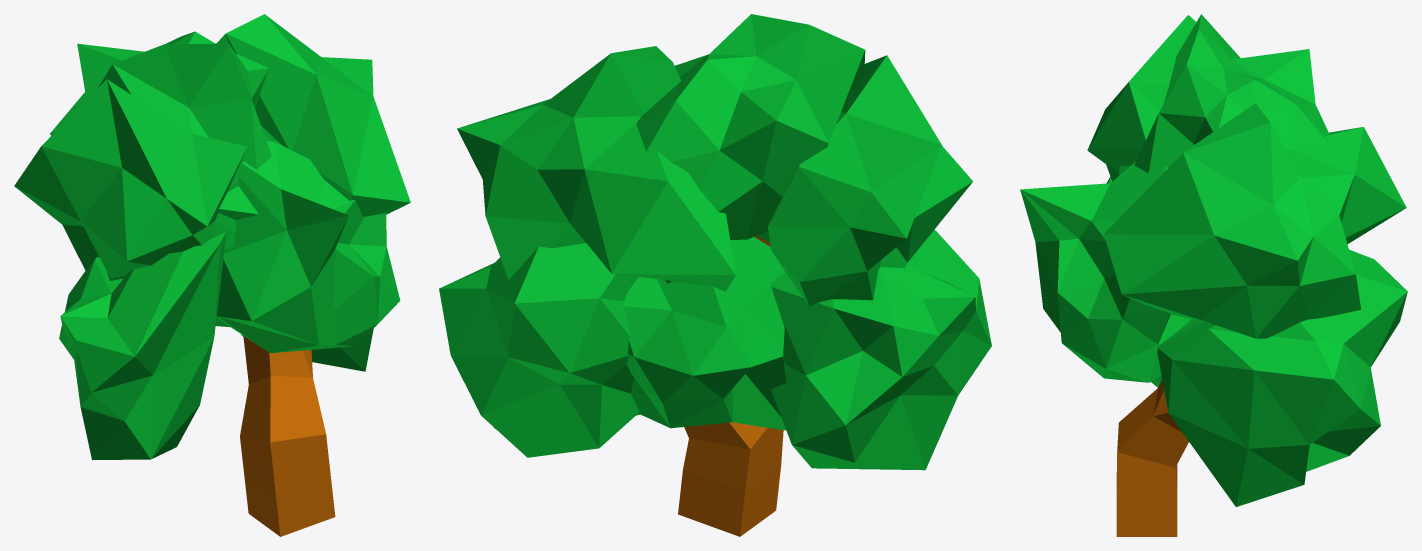
File: 広葉樹.fbx
3 renders of one model, left to right at view 1: azimuth 30°, elevation 25°; view 2: azimuth 150°, elevation 25°; view 3: azimuth 270°, elevation 25°, orthographic. The views are drawn at different scales.
Visible parts, largest first — view 1: Tree2; view 2: Tree2; view 3: Tree2.
Part boxes in pixels (x1,y1,x2,y2): Tree2: (14, 14, 410, 536); Tree2: (439, 14, 991, 536); Tree2: (1020, 14, 1407, 536).
Bounding box in the file's own units: 270 × 321 × 248.
